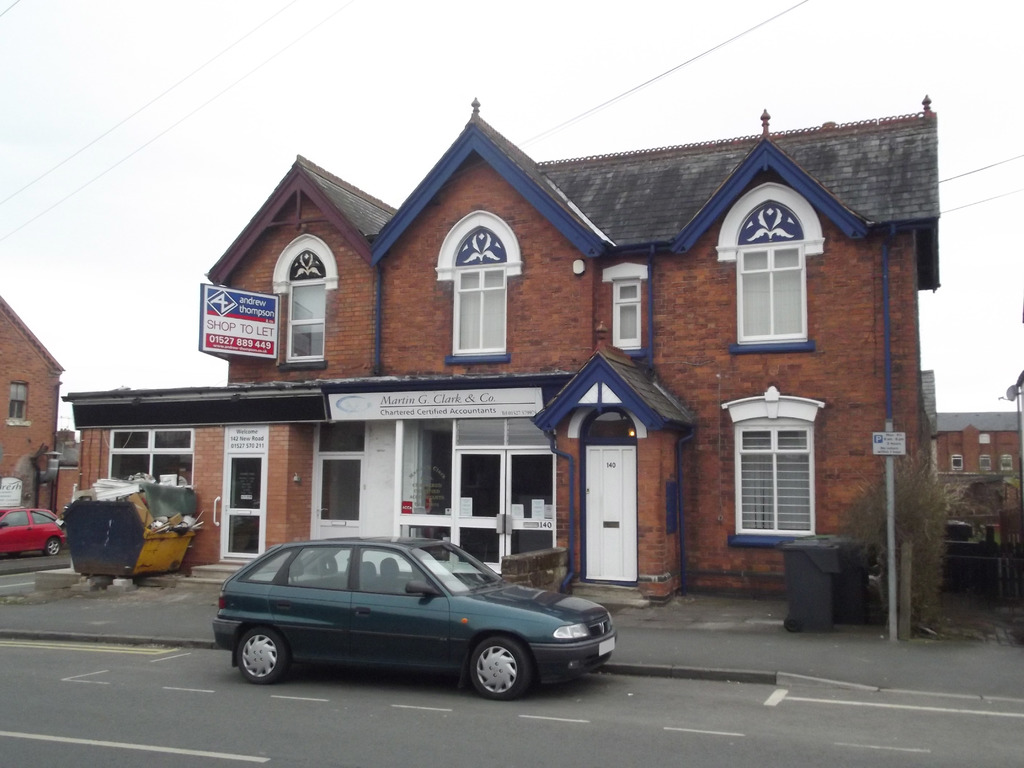Car: (205, 535, 614, 702), (0, 497, 66, 556)
